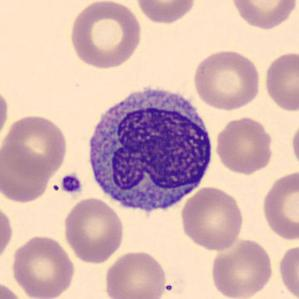Monocyte: (82, 77, 218, 220)
Platelets: (59, 172, 84, 197)
RBC: (67, 0, 144, 70), (1, 112, 70, 179), (191, 47, 263, 111), (179, 184, 245, 252), (9, 233, 76, 299), (62, 196, 126, 265), (208, 236, 275, 299), (213, 114, 275, 176), (101, 248, 169, 299), (0, 140, 52, 204), (260, 169, 298, 242), (262, 49, 298, 113), (228, 0, 298, 30), (133, 0, 198, 26), (277, 242, 298, 299), (0, 202, 15, 264), (0, 85, 11, 146), (288, 116, 299, 173), (0, 280, 26, 299)
